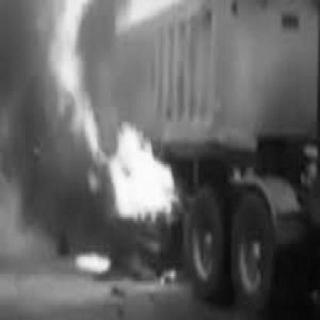Fire: (48, 0, 184, 226)
